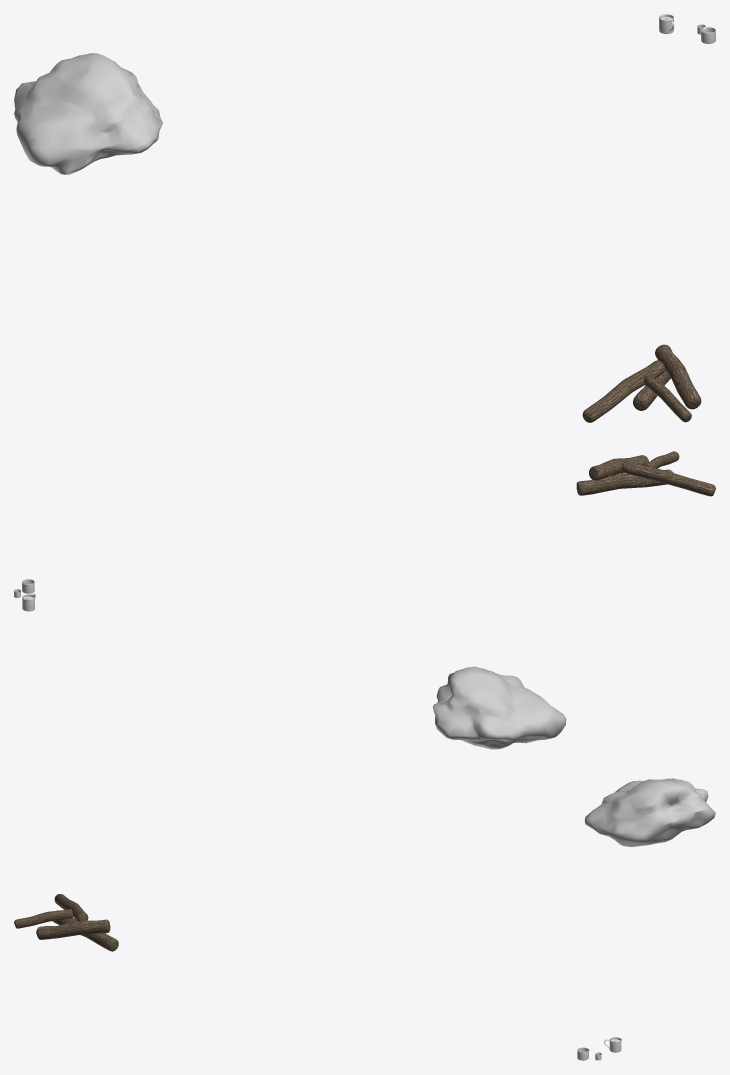
The model's file is Mug Snow.fbx.
3 views of the same model, one above another, from view 1: azimuth 30°, elevation 25°; view 2: azimuth 150°, elevation 25°; view 3: azimuth 270°, elevation 25° (orthographic). The views are drawn at different scales.
Visible parts, largest first — view 1: Snow, Wood 1.003, Wood 1.001, Wood 1.004; view 2: Snow, Wood 1.003, Wood 1.002, Wood 1.001; view 3: Snow, Wood 1.001, Wood 1.004, Wood 1.002.
Part boxes in pixels (<box>): Snow: <box>14,53,162,174</box>; Wood 1.003: <box>582,360,665,422</box>; Wood 1.001: <box>655,344,701,409</box>; Wood 1.004: <box>644,374,691,422</box>; Snow: <box>432,666,566,749</box>; Wood 1.003: <box>622,461,715,496</box>; Wood 1.002: <box>576,469,673,495</box>; Wood 1.001: <box>589,455,648,480</box>; Snow: <box>584,778,715,846</box>; Wood 1.001: <box>36,919,110,939</box>; Wood 1.004: <box>14,909,73,928</box>; Wood 1.002: <box>53,910,118,951</box>.
Size of the model in its own units: 890 by 140 by 1059.
